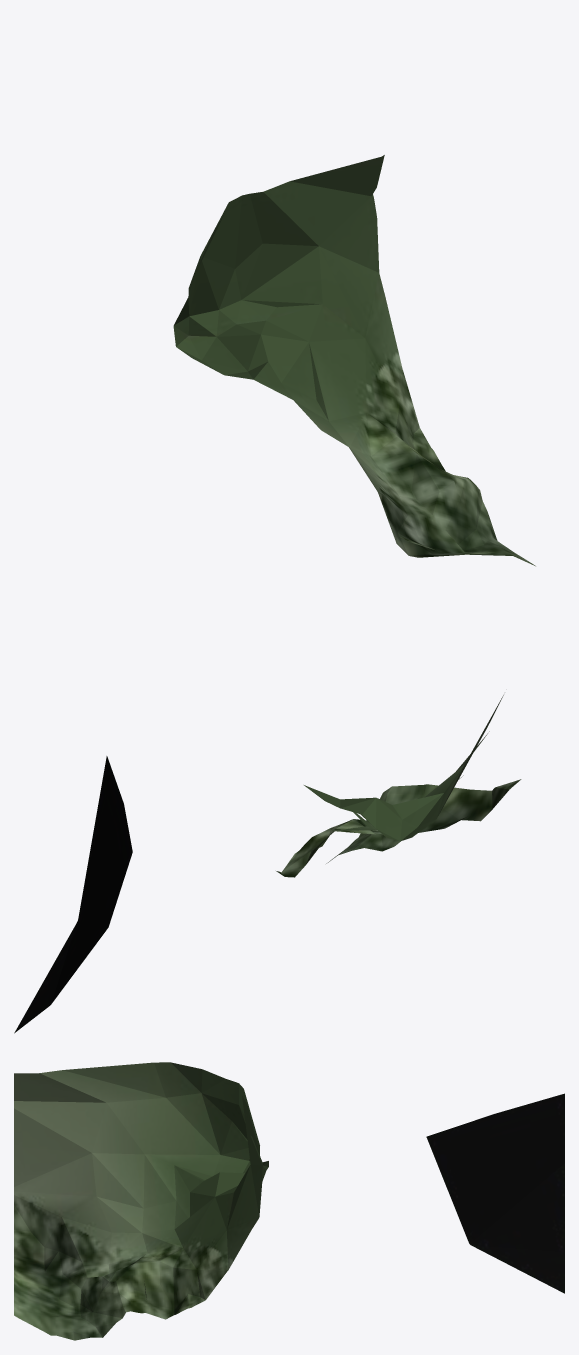
3 renders of one model, top to bottom at view 1: azimuth 30°, elevation 25°; view 2: azimuth 150°, elevation 25°; view 3: azimuth 270°, elevation 25°, orthographic. The views are drawn at different scales.
Bounding box in the file's own units: 1.92 × 2.41 × 5.9.
1 material, 1 textured.
